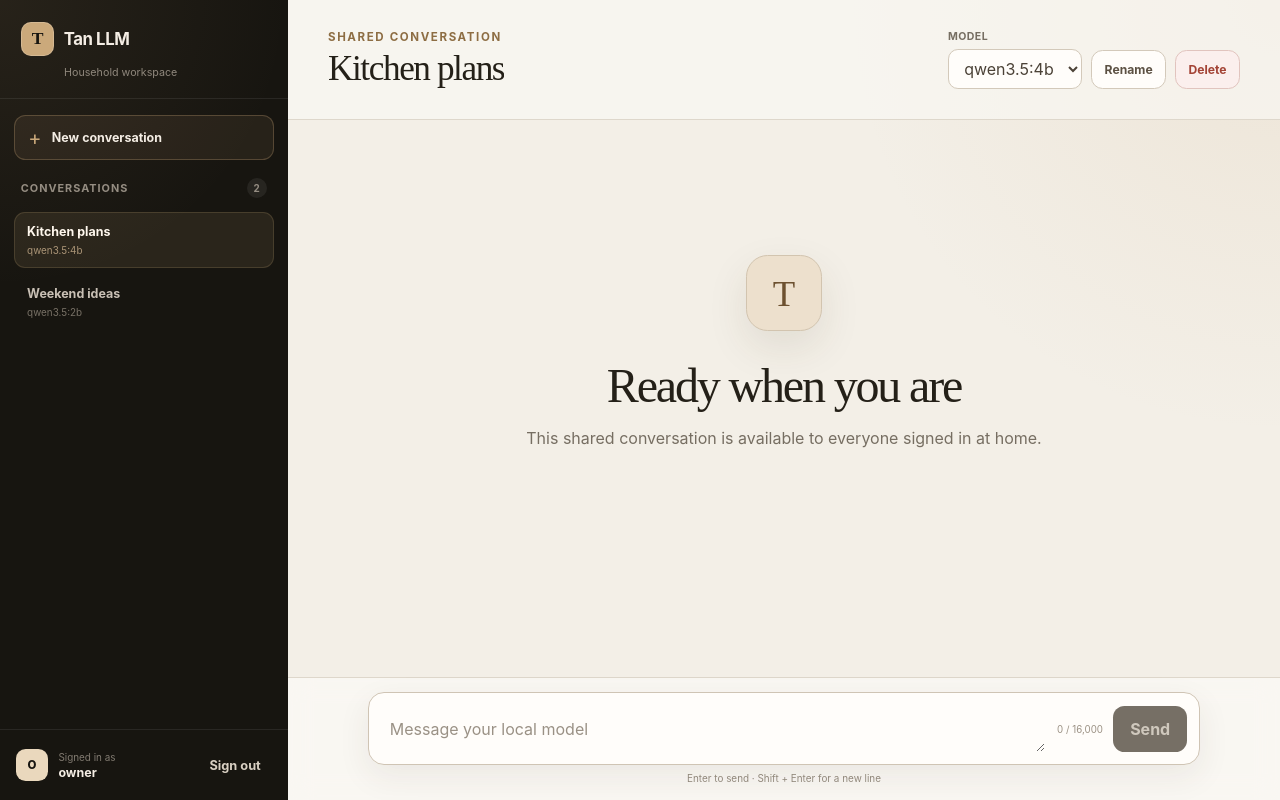
Test: shared conversation management › loads and selects shared conversations
Expected: the heading "Kitchen plans" is shown, [328,49,504,89]
Expected: the text "2" is shown, [247,178,267,198]
Click the button "Weekend ideas qwen3.5:2b".
click(74, 294)  # box [14,274,274,330]
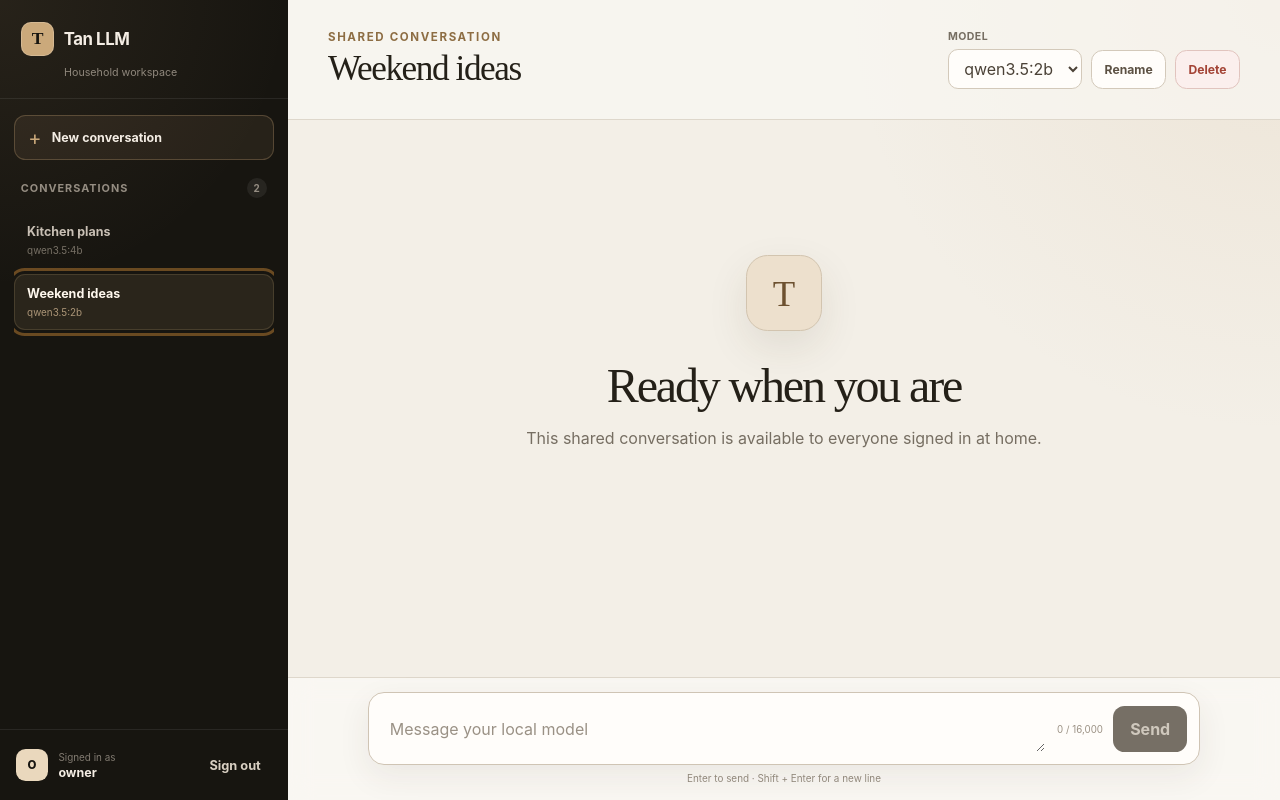
Now the heading "Weekend ideas" is shown, box [328,49,521,89]
